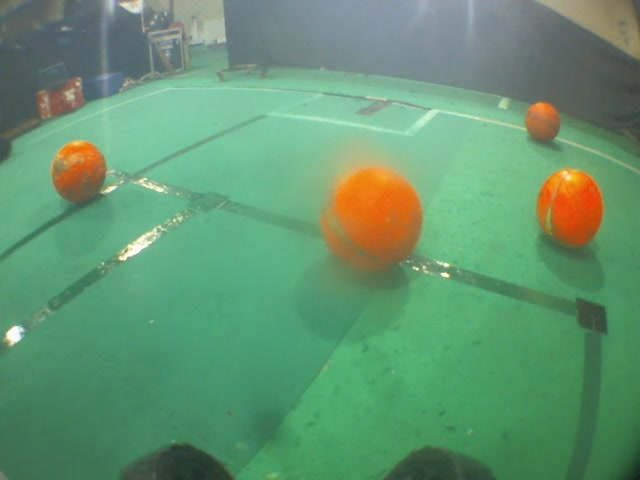ball: (310, 160, 427, 282), (533, 165, 608, 258), (46, 138, 113, 207), (522, 99, 563, 150)
